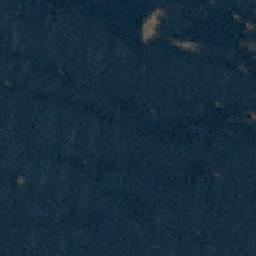debris: (137, 9, 165, 43), (171, 42, 204, 54), (241, 36, 256, 53), (240, 110, 256, 122), (16, 173, 27, 185), (245, 20, 256, 31), (212, 100, 223, 109)
